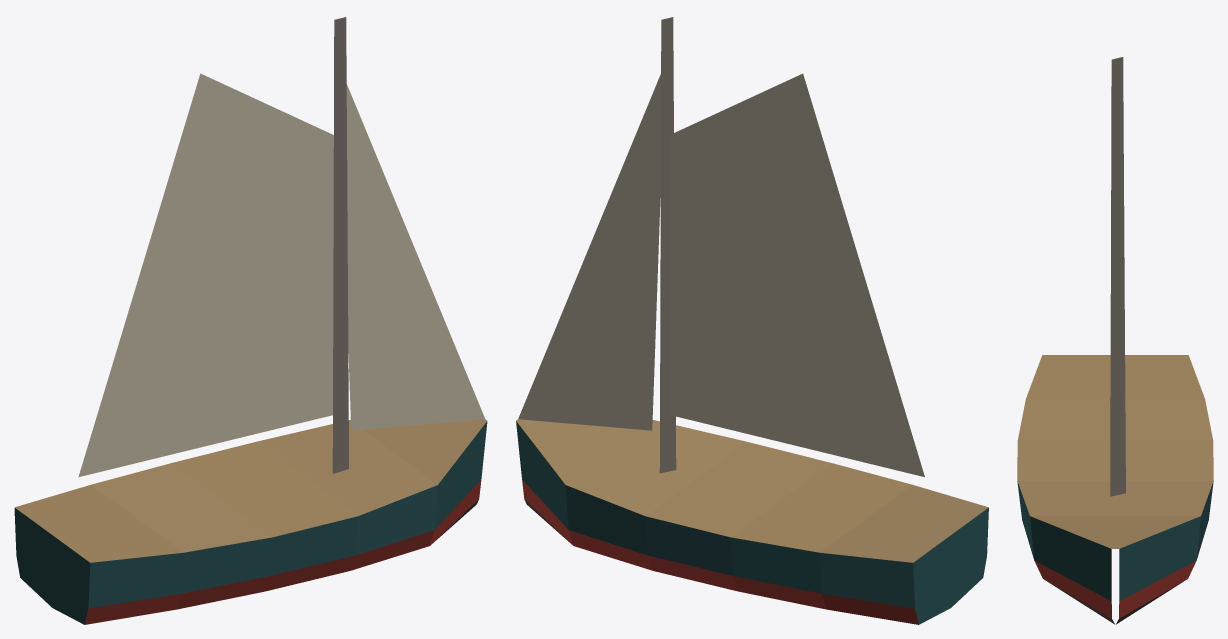
Rendered from hull_other_work_skiff_lod.glb.
3 views of the same model, side by side, from view 1: azimuth 30°, elevation 25°; view 2: azimuth 150°, elevation 25°; view 3: azimuth 270°, elevation 25° (orthographic). The views are drawn at different scales.
Visible parts, largest first — view 1: lod; view 2: lod; view 3: lod.
Boxes of the visible parts, <box> form: lod: <box>14,17,487,624</box>; lod: <box>516,17,988,624</box>; lod: <box>1017,57,1213,624</box>.
Size of the model in its own units: 5 by 5.95 by 2.04.
